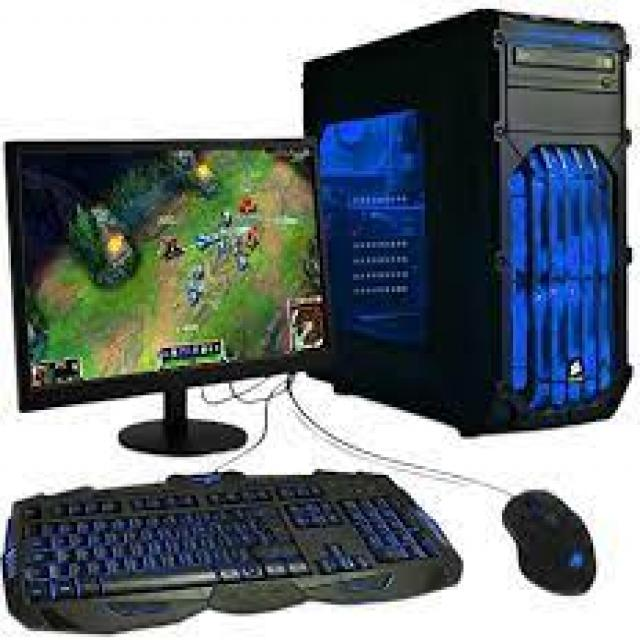Computer: (331, 11, 637, 444)
Monitor: (6, 127, 346, 411)
